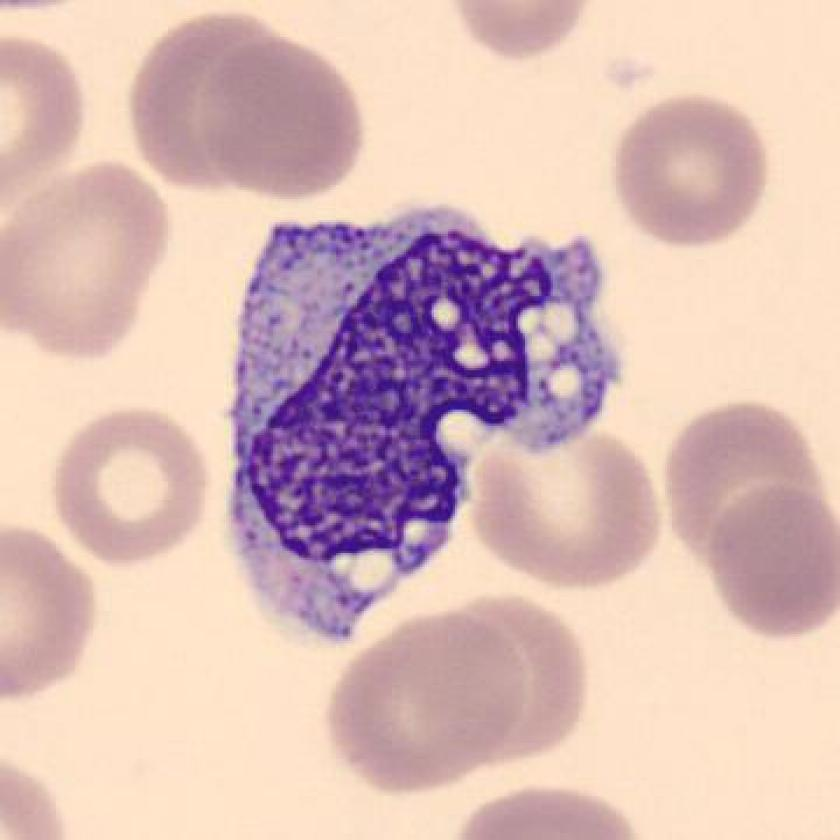monocyte: (206, 184, 636, 665)
